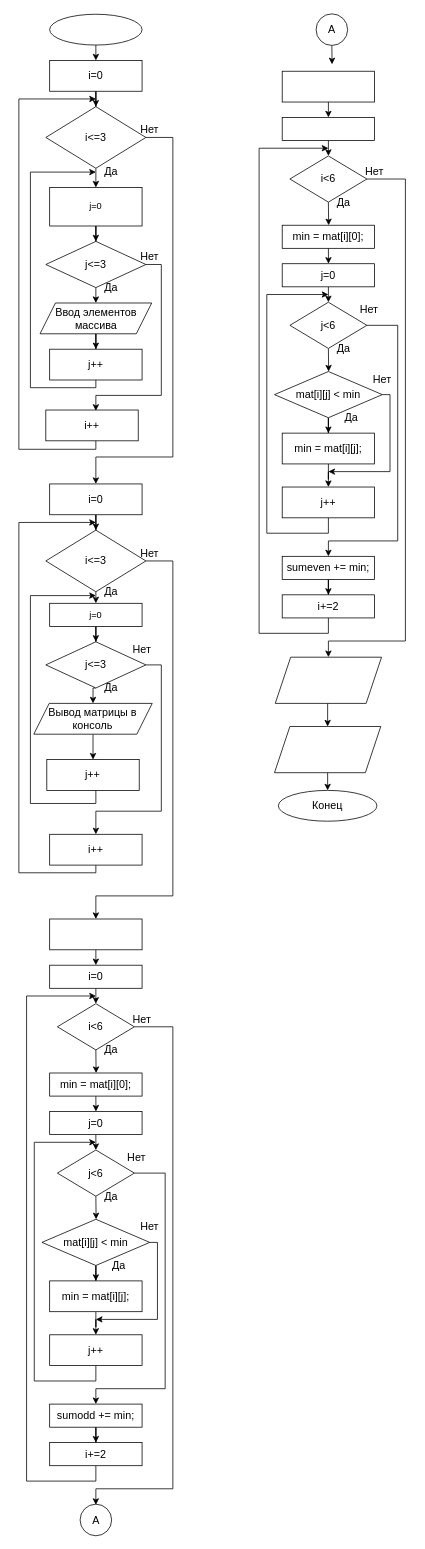
Image size: 425x1549. Some labels were removed from this diagram. The box of each missing label's shape, as (x1, y1, x2, y2) in pixels:
i=1: (281, 117, 375, 141)
min = 0; sumodd = 0;: (49, 918, 142, 950)
sumeven = 0;: (281, 70, 375, 102)
Вывод sumeven: (274, 726, 381, 773)
Вывод sumodd: (275, 656, 382, 703)
начало: (49, 13, 142, 45)
